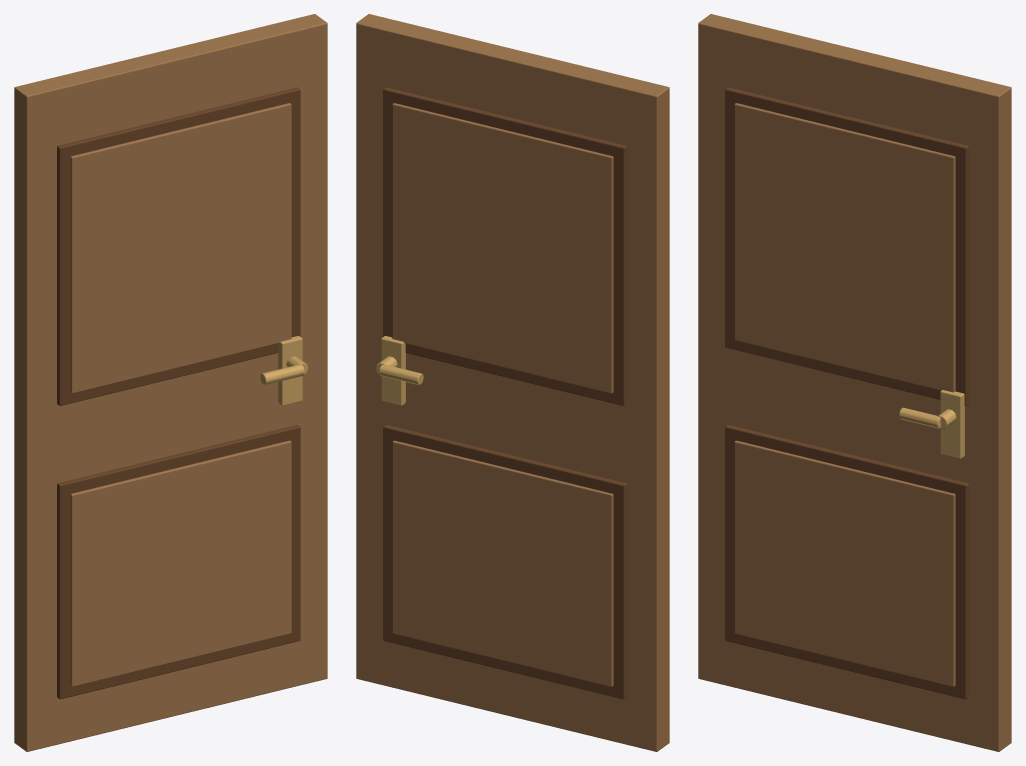
File: SM_Dormitory_InteriorDoor.fbx
3 renders of one model, left to right at view 1: azimuth 30°, elevation 25°; view 2: azimuth 150°, elevation 25°; view 3: azimuth 330°, elevation 25°, orthographic.
Parts seen in each view (by area): view 1: DORM_INT_Door_101.001; view 2: DORM_INT_Door_101.001; view 3: DORM_INT_Door_101.001.
Part boxes in pixels (x1=…): DORM_INT_Door_101.001: x1=14, y1=14, x2=327, y2=751; DORM_INT_Door_101.001: x1=356, y1=14, x2=669, y2=751; DORM_INT_Door_101.001: x1=698, y1=14, x2=1011, y2=751.
Size of the model in its own units: 100 by 29.49 by 208.
